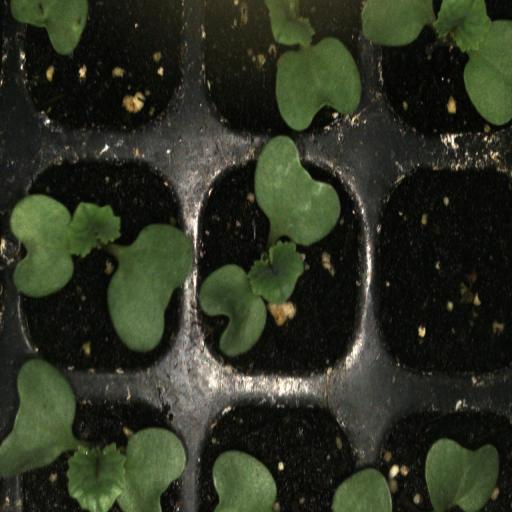Folha: (425, 438, 499, 512), (10, 0, 89, 56), (212, 450, 277, 512), (331, 468, 393, 512)
Germinacao: (12, 143, 196, 379), (195, 144, 371, 381), (188, 0, 370, 145), (12, 375, 194, 512), (373, 0, 512, 149)
